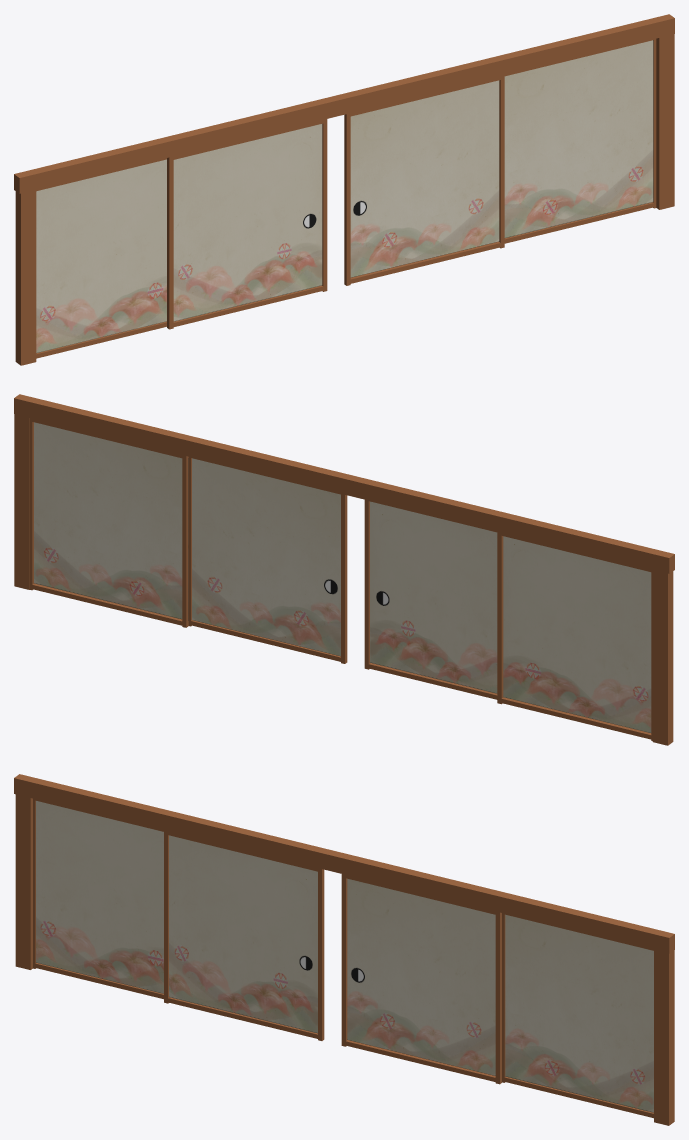
The model's file is door_fix.fbx.
3 renders of one model, top to bottom at view 1: azimuth 30°, elevation 25°; view 2: azimuth 150°, elevation 25°; view 3: azimuth 330°, elevation 25°, orthographic.
Parts seen in each view (by area): view 1: pPlane1, pPlane3, pPlane4, pPlane2, top, left, pCube10 (×4), right, pCube21 (×3), pCube8 (×2), pCube9 (×2); view 2: pPlane1, pPlane4, pPlane2, pPlane3, top, pCube8 (×4), pCube10 (×4), left, right, pCube21 (×2), pCube9 (×2); view 3: pPlane1, pPlane3, pPlane4, pPlane2, top, pCube10 (×4), right, left, pCube8 (×3), pCube21 (×2), pCube9 (×2).
Part boxes in pixels (x1,y1,x2,y2): pPlane1: [504, 40, 653, 237]; pPlane3: [173, 124, 322, 321]; pPlane4: [350, 80, 499, 277]; pPlane2: [36, 159, 166, 353]; top: [14, 14, 674, 193]; left: [15, 190, 36, 365]; pCube10 (×4): [36, 202, 655, 358]; right: [656, 34, 674, 209]; pCube21 (×3): [167, 39, 656, 329]; pCube8 (×2): [322, 113, 350, 291]; pCube9 (×2): [171, 76, 500, 160]; pPlane1: [34, 422, 188, 620]; pPlane4: [192, 458, 340, 656]; pPlane2: [503, 536, 651, 732]; pPlane3: [370, 501, 497, 693]; top: [14, 394, 674, 573]; pCube8 (×4): [182, 456, 503, 704]; pCube10 (×4): [30, 583, 652, 739]; left: [652, 570, 673, 745]; right: [14, 414, 29, 589]; pCube21 (×2): [30, 418, 191, 626]; pCube9 (×2): [30, 418, 652, 572]; pPlane1: [505, 914, 653, 1112]; pPlane3: [169, 835, 317, 1033]; pPlane4: [347, 878, 495, 1075]; pPlane2: [36, 801, 163, 993]; top: [14, 774, 674, 953]; pCube10 (×4): [33, 963, 653, 1118]; right: [654, 950, 674, 1125]; left: [15, 794, 32, 969]; pCube8 (×3): [318, 868, 505, 1082]; pCube21 (×2): [164, 830, 501, 1084]; pCube9 (×2): [168, 831, 497, 915].
Bounding box in the file's own units: 665 × 182 × 9.76.
